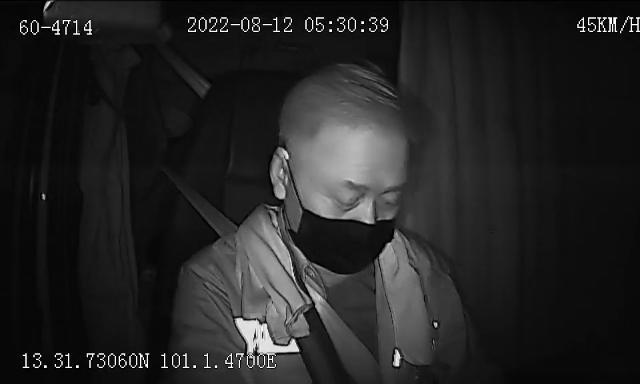Seatbelt: (179, 180, 379, 384)
